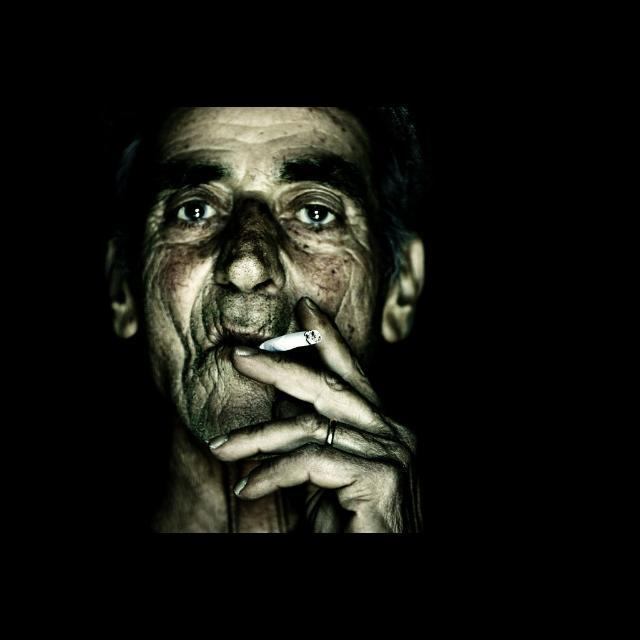rokok: (258, 324, 324, 358)
